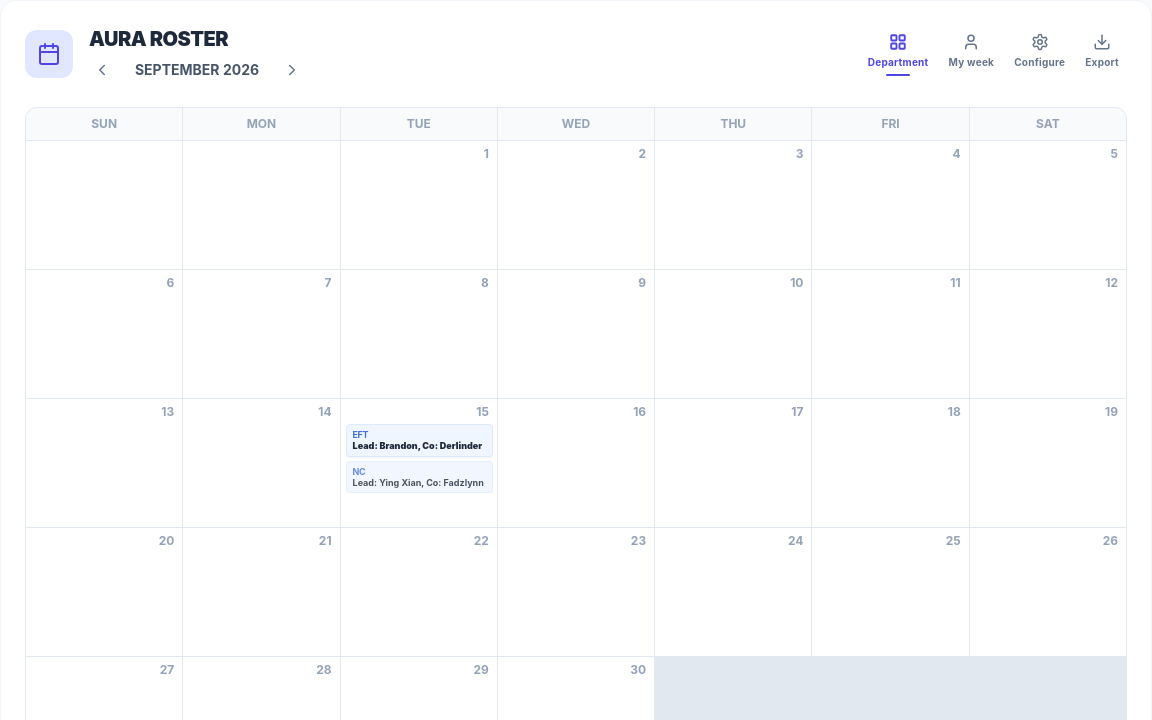
Scenario: live mode: my week reads the live document and adds nothing to it › lists the signed-in user's own duties out of the live document, and nobody else's
Click the button "My week": {"x": 971, "y": 54} [940, 26, 1002, 82]
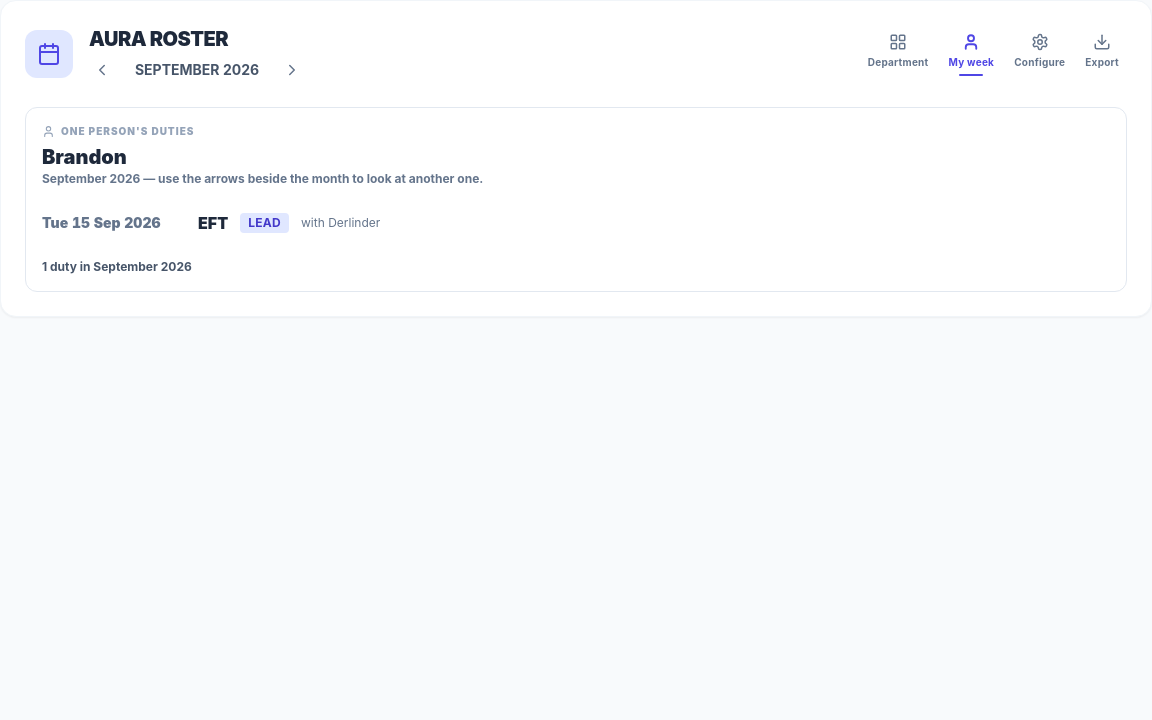
Expected: the element that starts with "One person's duties" is shown, [25, 107, 1127, 292]
Expected: the number of list items is 1, [42, 213, 380, 233]
Expected: the text "with Derlinder" is shown, [301, 215, 380, 231]
